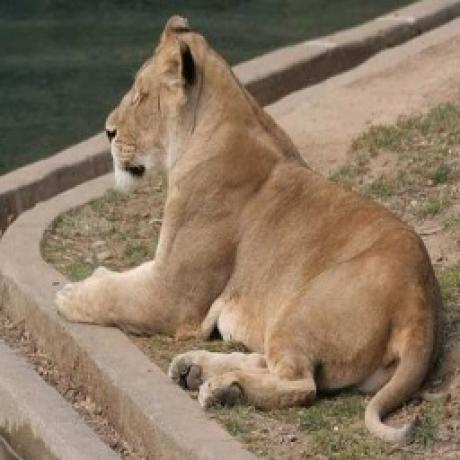Lion: (53, 8, 442, 451)
